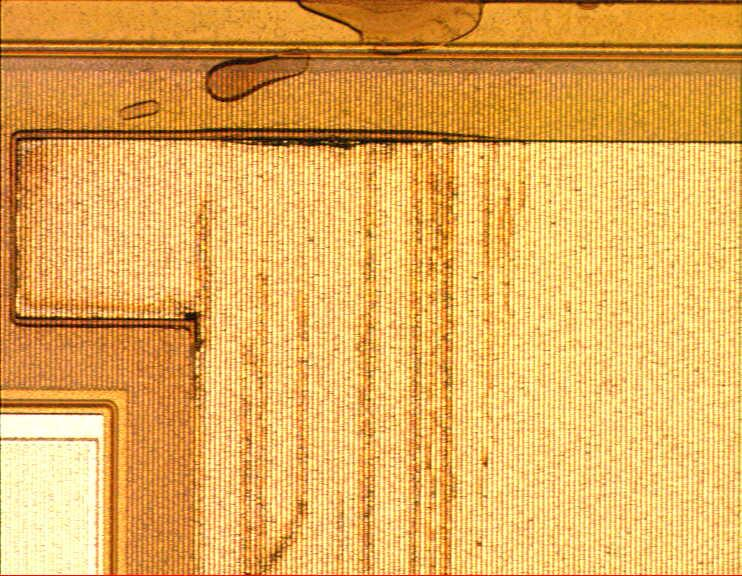SEZ BURNT: (9, 129, 546, 573)
